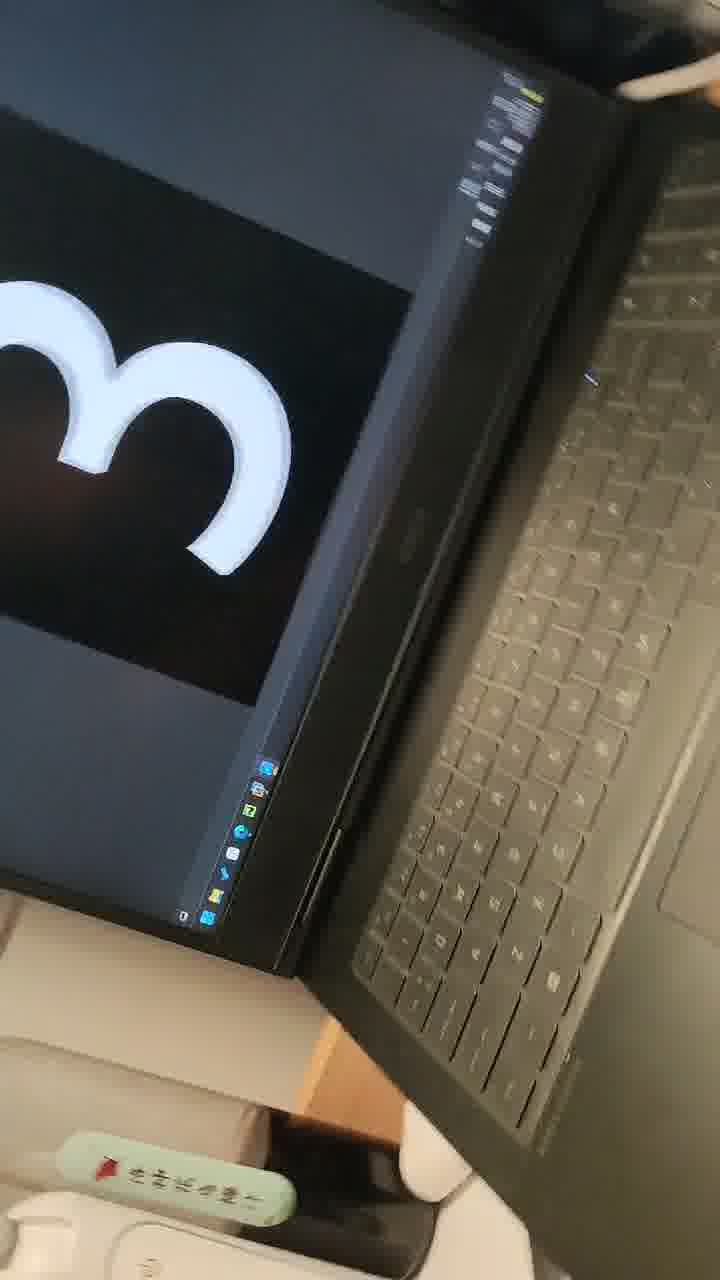three: (1, 149, 407, 596)
